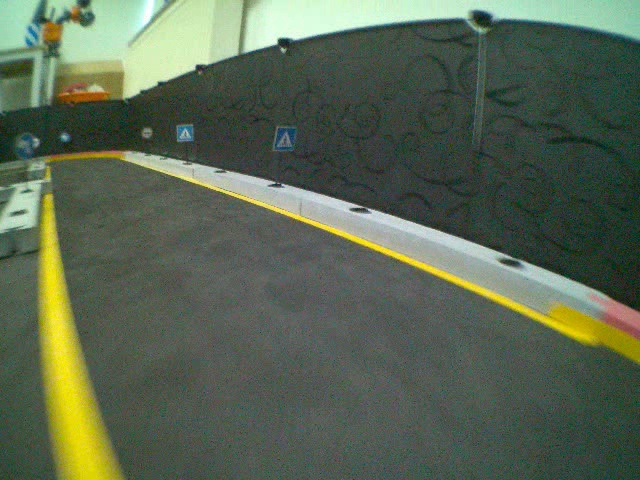crossing: (272, 125, 300, 152), (175, 122, 195, 141)
